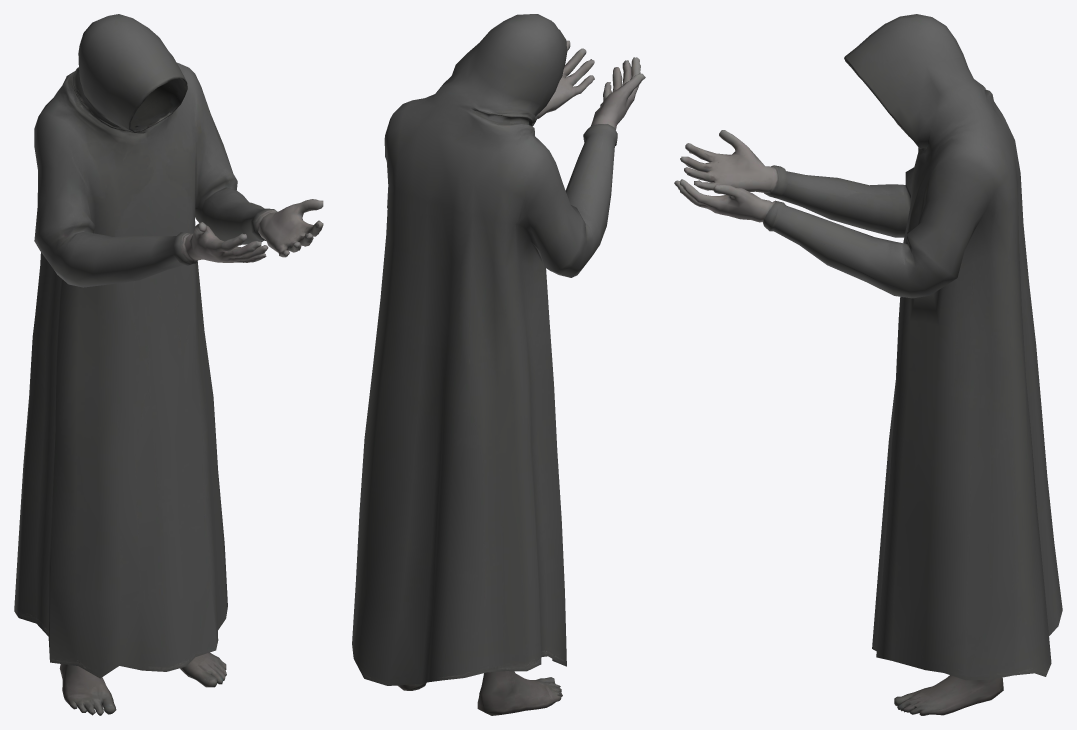
Rendered from selected.glb.
3 renders of one model, left to right at view 1: azimuth 30°, elevation 25°; view 2: azimuth 150°, elevation 25°; view 3: azimuth 270°, elevation 25°, orthographic. The views are drawn at different scales.
Visible parts, largest first — view 1: tripo_node_35335102-08d7-4dad-8d83-3ed03415e5a6; view 2: tripo_node_35335102-08d7-4dad-8d83-3ed03415e5a6; view 3: tripo_node_35335102-08d7-4dad-8d83-3ed03415e5a6.
Boxes of the visible parts, left/top/right/bottom form: tripo_node_35335102-08d7-4dad-8d83-3ed03415e5a6: left=14, top=14, right=323, bottom=715; tripo_node_35335102-08d7-4dad-8d83-3ed03415e5a6: left=352, top=14, right=645, bottom=715; tripo_node_35335102-08d7-4dad-8d83-3ed03415e5a6: left=674, top=14, right=1062, bottom=715.
Bounding box in the file's own units: 0.3027 × 0.998 × 0.541.
1 material, 1 textured.
